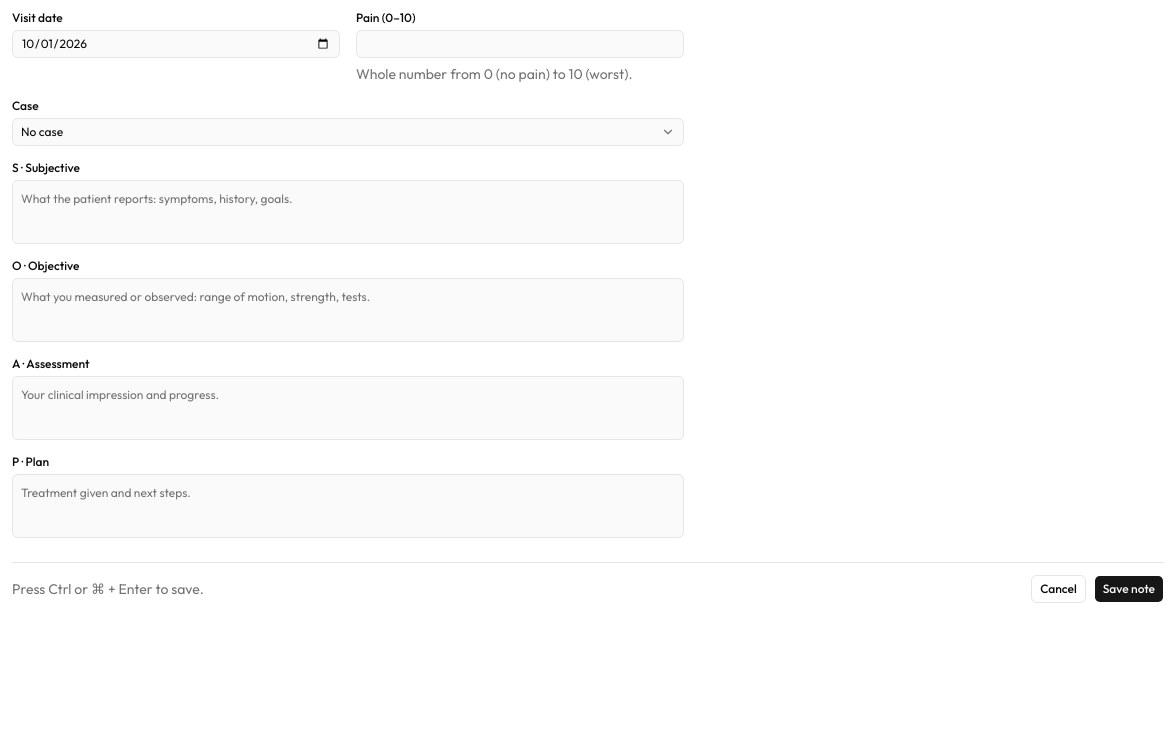
it: NoteEditor › errors › shows the at-least-one-section error on every SOAP field
The image size is (1176, 732).
Click the button "Save note" at (1129, 589), box [1094,575,1164,603]
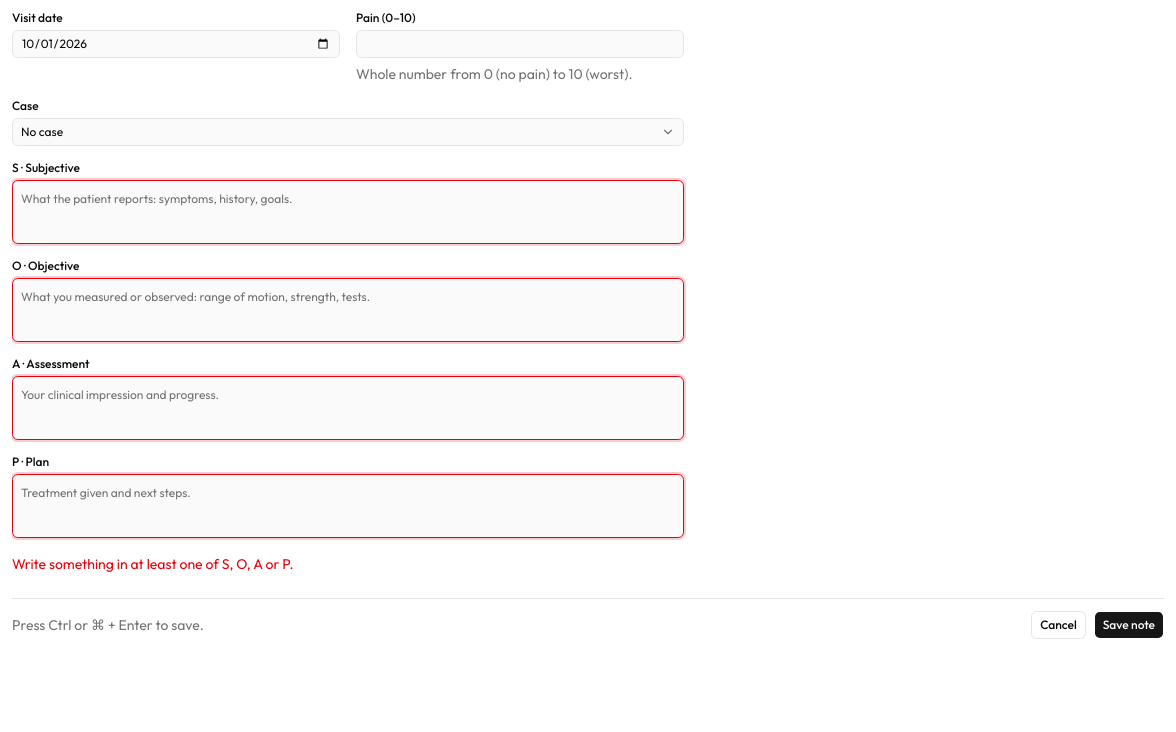
Result: the text "Write something in at least one of S, O, A or P." is shown at [12,555,294,573]
